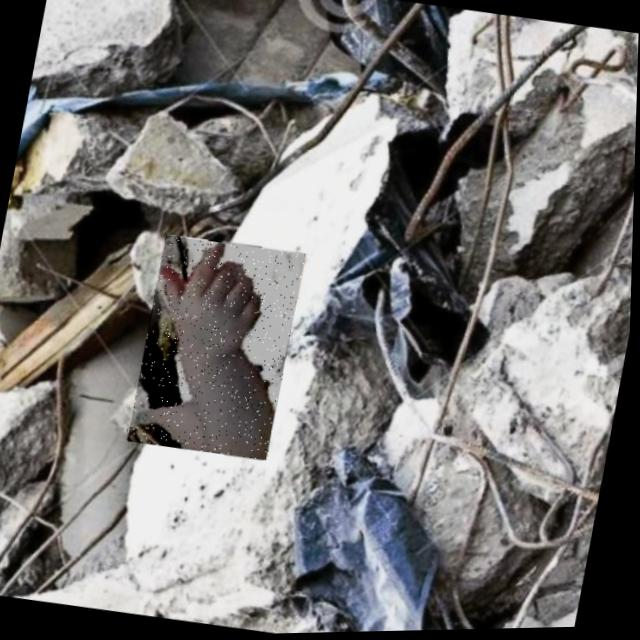Person in Rubble: (130, 233, 308, 464)
